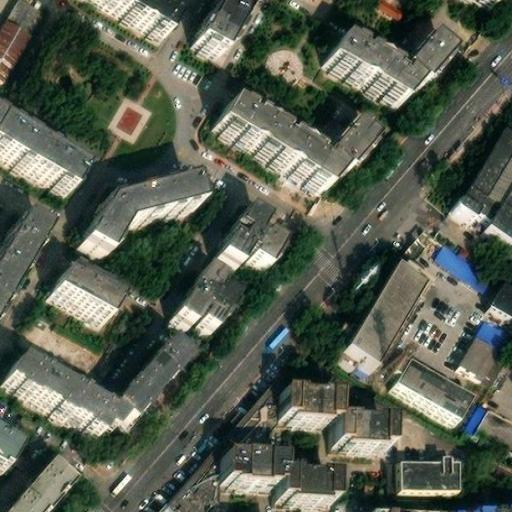building: (152, 375, 284, 512), (2, 340, 184, 436), (213, 100, 367, 192), (323, 33, 448, 106), (82, 173, 196, 247), (442, 114, 511, 231), (352, 253, 430, 351), (0, 119, 83, 197), (398, 349, 475, 410), (213, 203, 278, 269), (171, 266, 232, 331), (0, 219, 44, 309), (50, 265, 119, 320), (459, 313, 512, 375), (189, 0, 248, 54), (436, 238, 494, 286), (95, 0, 172, 36), (380, 464, 444, 502), (225, 445, 285, 480), (338, 408, 393, 443), (283, 381, 339, 415), (284, 463, 336, 499), (458, 400, 489, 436), (0, 420, 23, 468), (494, 273, 512, 307)
